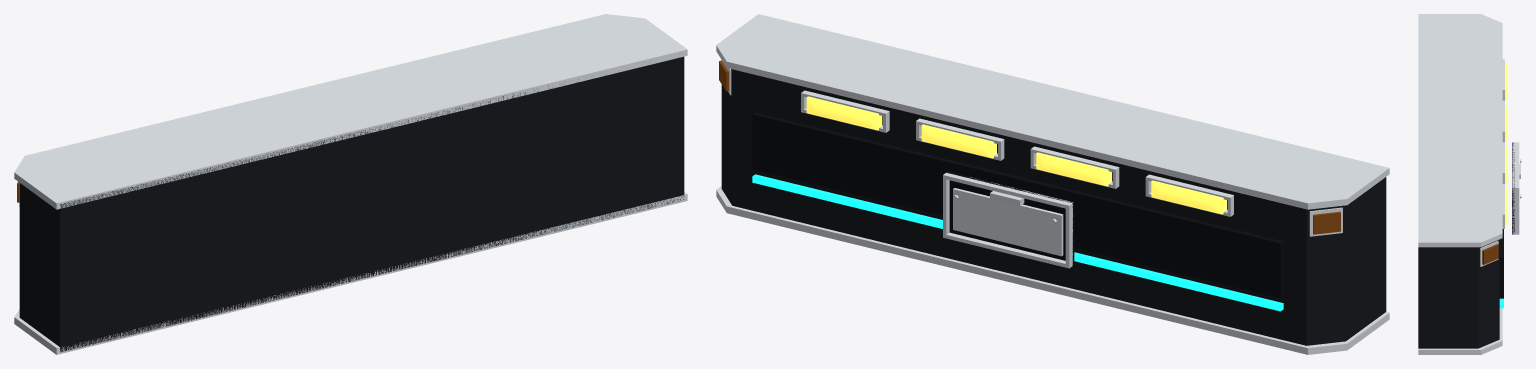
Rendered from fb_box_amber.glb.
3 views of the same model, side by side, from view 1: azimuth 30°, elevation 25°; view 2: azimuth 150°, elevation 25°; view 3: azimuth 270°, elevation 25° (orthographic). The views are drawn at different scales.
Visible parts, largest first — view 1: fb_box_amber_MID_deco_body, fb_box_amber_TOP_chrome, fb_box_amber_TOP_deco_body, fb_box_amber_BOT_deco_body, fb_box_amber_BOT_chrome; view 2: fb_box_amber_TOP_chrome, fb_box_amber_MID_deco_trim, fb_box_amber_MID_deco_body, fb_box_amber_BOT_deco_body, fb_box_amber_TOP_deco_body, fb_box_amber_BOT_chrome, fb_box_amber_TOP_lamp_amber, fb_box_amber_CEN_deco_plate, fb_box_amber_MID_deco_neon, fb_box_amber_CEN_chrome, fb_box_amber_CEN_deco_trim, fb_box_amber_TOP_deco_signal; view 3: fb_box_amber_TOP_chrome, fb_box_amber_MID_deco_body, fb_box_amber_TOP_deco_body, fb_box_amber_BOT_deco_body, fb_box_amber_CEN_chrome, fb_box_amber_BOT_chrome, fb_box_amber_TOP_lamp_amber, fb_box_amber_MID_deco_trim, fb_box_amber_TOP_deco_signal, fb_box_amber_CEN_deco_trim.
Boxes of the visible parts, <box> form: fb_box_amber_MID_deco_body: <box>19,92,684,322</box>; fb_box_amber_TOP_chrome: <box>14,14,687,209</box>; fb_box_amber_TOP_deco_body: <box>19,56,684,244</box>; fb_box_amber_BOT_deco_body: <box>19,170,684,352</box>; fb_box_amber_BOT_chrome: <box>14,192,687,354</box>; fb_box_amber_TOP_chrome: <box>716,14,1389,236</box>; fb_box_amber_MID_deco_trim: <box>752,112,1283,297</box>; fb_box_amber_MID_deco_body: <box>721,86,1386,321</box>; fb_box_amber_BOT_deco_body: <box>721,165,1386,345</box>; fb_box_amber_TOP_deco_body: <box>721,69,1386,242</box>; fb_box_amber_BOT_chrome: <box>716,186,1389,354</box>; fb_box_amber_TOP_lamp_amber: <box>806,96,1226,214</box>; fb_box_amber_CEN_deco_plate: <box>953,188,1063,256</box>; fb_box_amber_MID_deco_neon: <box>752,174,1283,311</box>; fb_box_amber_CEN_chrome: <box>943,172,1073,268</box>; fb_box_amber_CEN_deco_trim: <box>946,171,1074,265</box>; fb_box_amber_TOP_deco_signal: <box>719,60,1340,234</box>; fb_box_amber_TOP_chrome: <box>1418,14,1504,266</box>; fb_box_amber_MID_deco_body: <box>1418,263,1499,330</box>; fb_box_amber_TOP_deco_body: <box>1418,239,1499,272</box>; fb_box_amber_BOT_deco_body: <box>1418,321,1499,348</box>; fb_box_amber_CEN_chrome: <box>1512,142,1521,234</box>; fb_box_amber_BOT_chrome: <box>1418,308,1502,354</box>; fb_box_amber_TOP_lamp_amber: <box>1505,63,1507,225</box>; fb_box_amber_MID_deco_trim: <box>1499,229,1503,298</box>; fb_box_amber_TOP_deco_signal: <box>1482,244,1498,264</box>; fb_box_amber_CEN_deco_trim: <box>1512,142,1514,234</box>.
Bounding box in the file's own units: 2.53 × 0.58 × 0.483.
